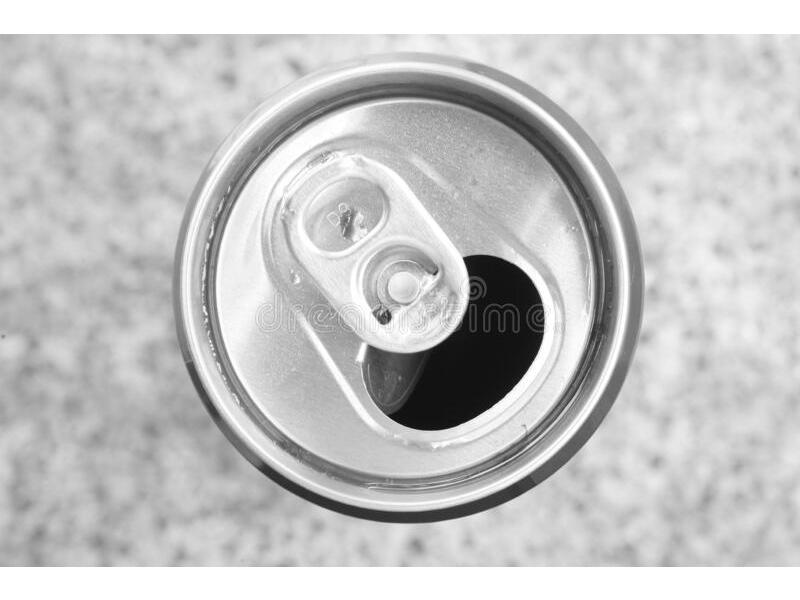can: (161, 46, 656, 532)
